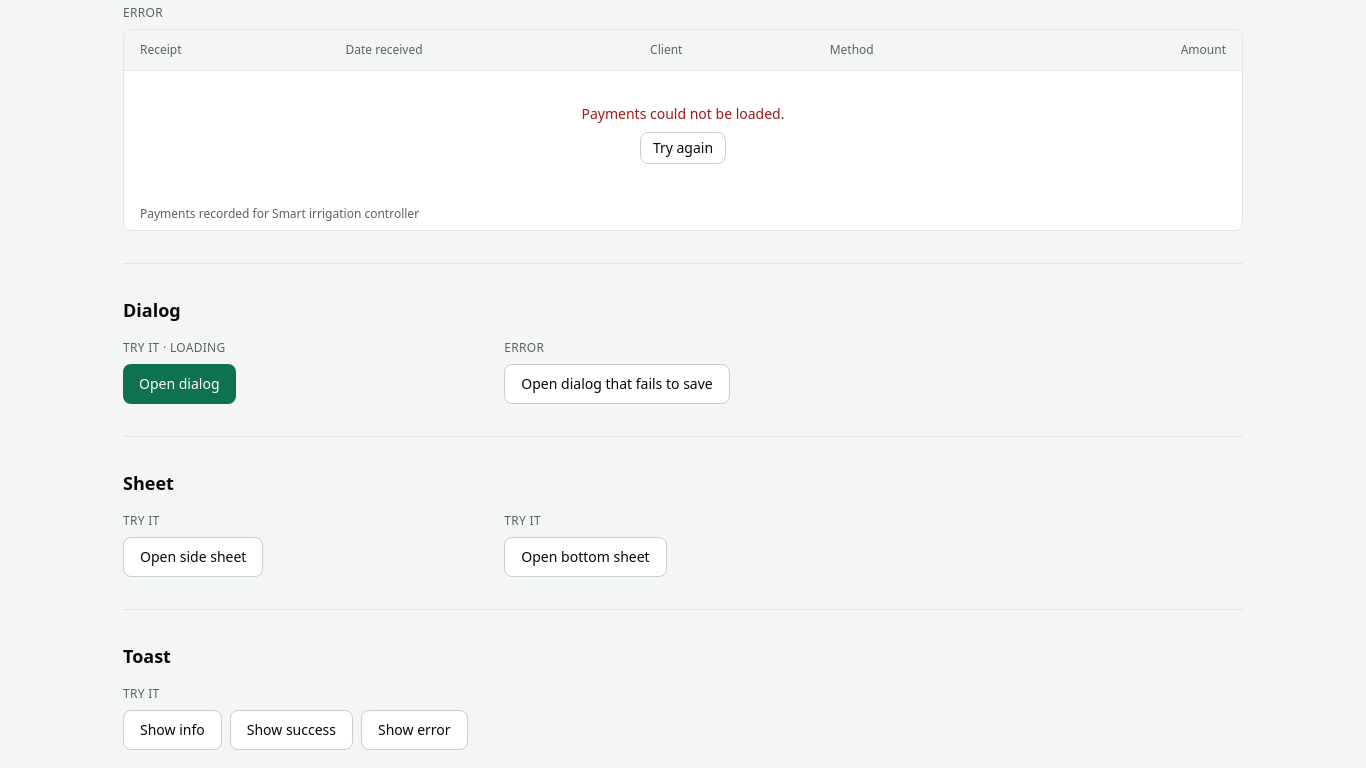
/dev/components › keeps the dialog open and explains a failed save
(page scrolled)
Click the button "Open dialog that fails to save". click: x=617, y=384
box: [504, 364, 730, 404]
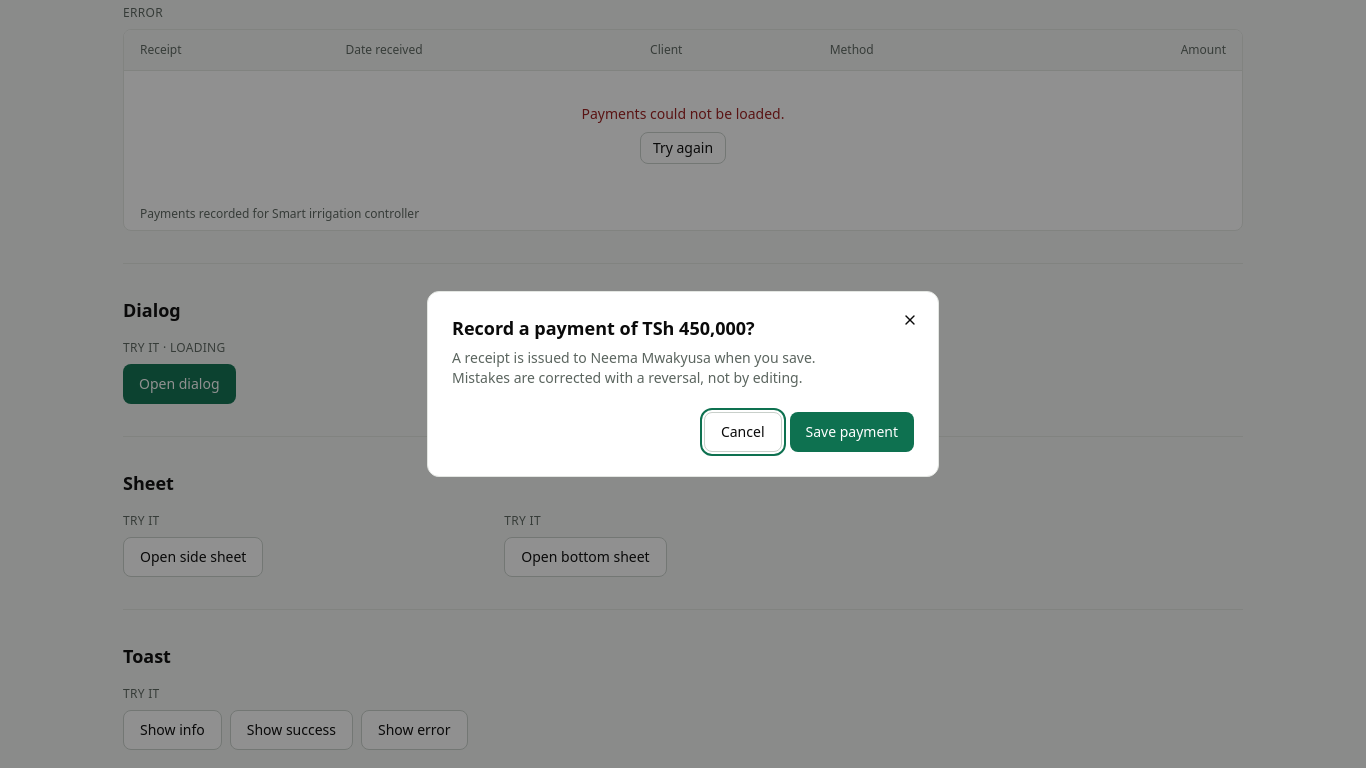
Click the button "Save payment". click: x=852, y=432
box: [790, 412, 914, 452]
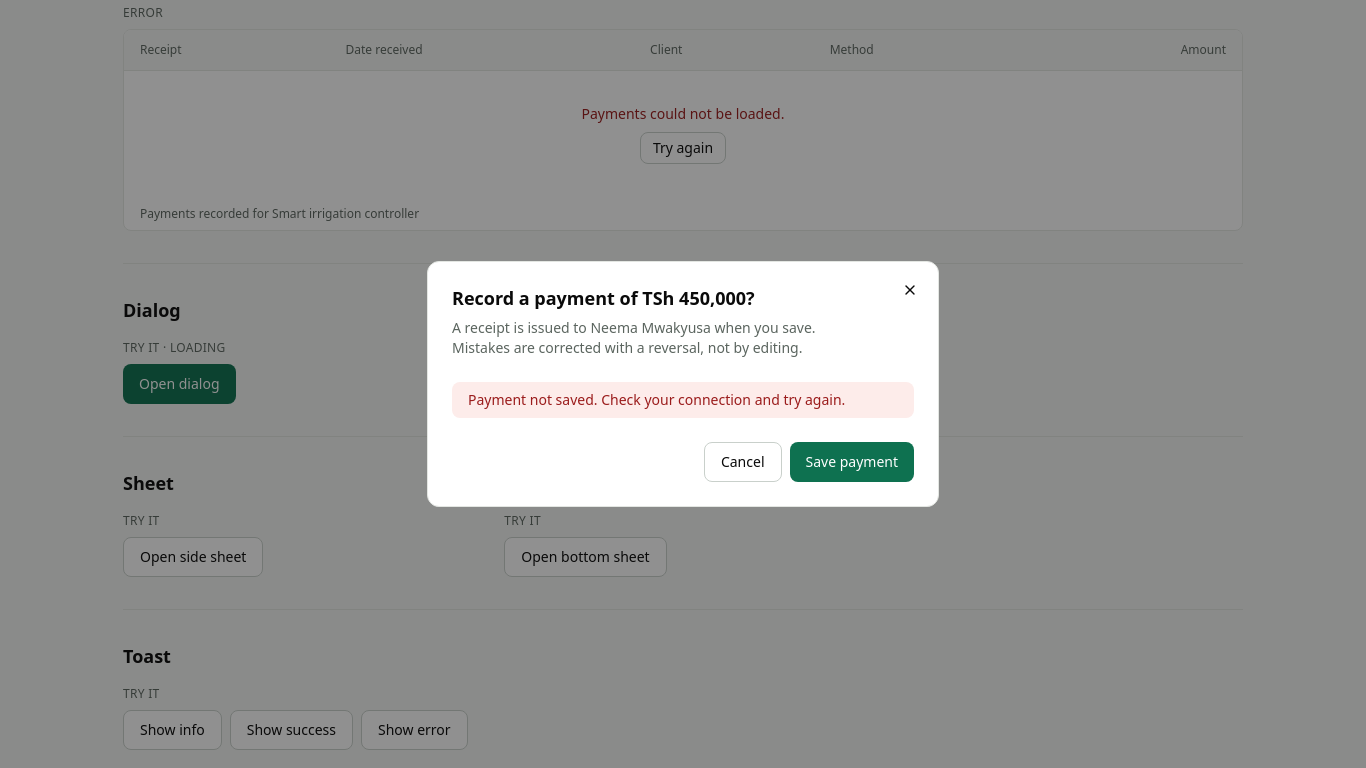
Check: the dialog is shown, box [427, 261, 939, 507]
Check: the message shows "Payment not saved.", box [468, 390, 845, 409]
